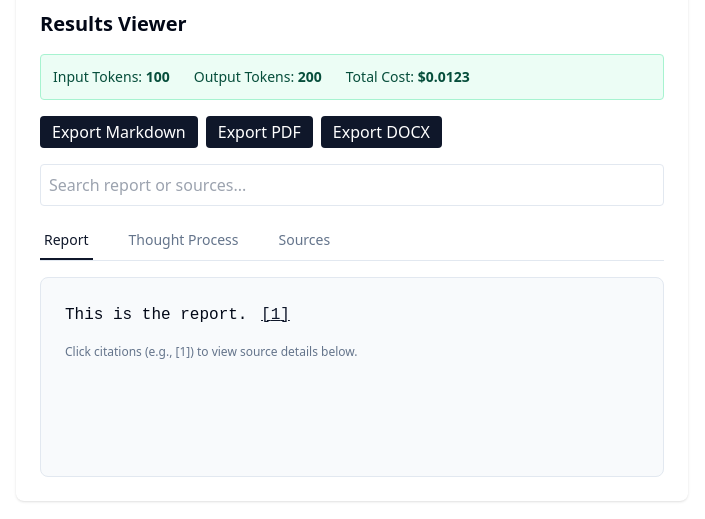
ResultsViewer › shows sources and cost
Click the button "Sources".
click(304, 241)  # box top-left (274, 222), bottom-right (334, 260)
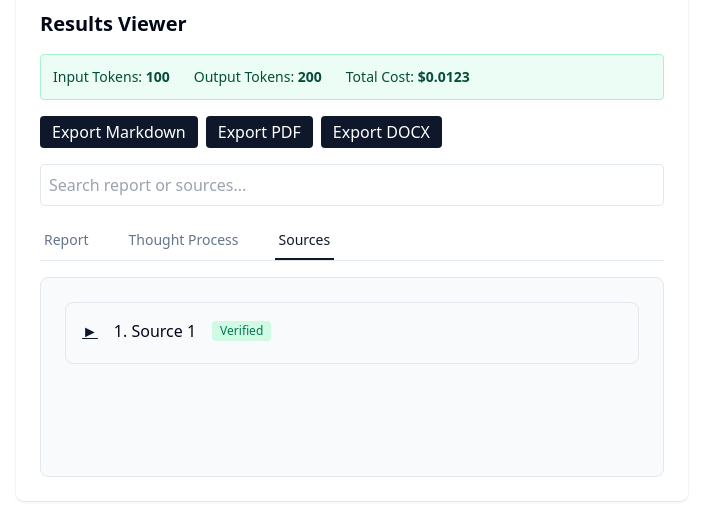
Check: the text "Input Tokens:" is shown, box top-left (53, 67), bottom-right (146, 86)
Check: the heading "1. Source 1" is shown, box top-left (114, 319), bottom-right (196, 343)
